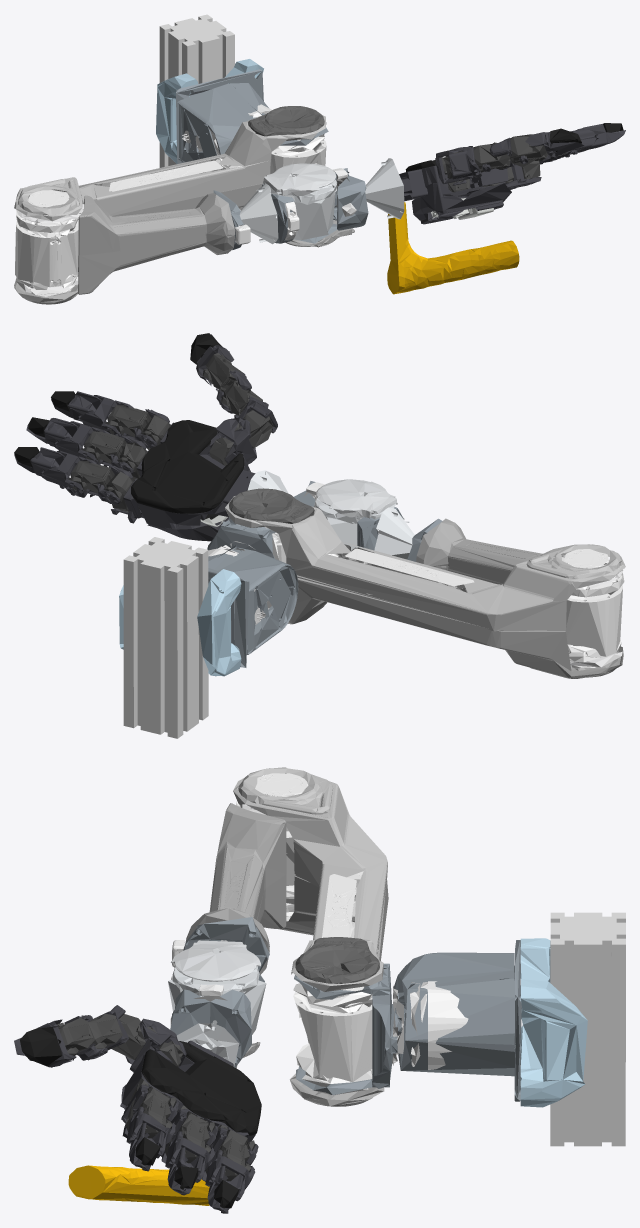
Rendered from robot.glb.
3 views of the same model, one above another, from view 1: azimuth 30°, elevation 25°; view 2: azimuth 150°, elevation 25°; view 3: azimuth 270°, elevation 25° (orthographic). The views are drawn at different scales.
Visible parts, largest first — view 1: link3__m1, link2__m3, base_link__m1, link2__m0, link6__m0, base_link__m2, palm_base__m1, base_link__m3, link4__m0, link2__m4, link4__m2, link2__m1 (+16 smaller); view 2: link2__m3, base_link__m2, link2__m1, palm_base__m2, base_link__m1, link2__m0, link3__m1, base_link__m3, palm_base__m1, link4__m2, link2__m4, link1__m1 (+18 smaller); view 3: base_link__m2, base_link__m1, link2__m3, base_link__m3, link3__m1, link1__m0, palm_base__m2, link6__m0, link1__m1, link2__m0, link2__m4, link5__m1 (+18 smaller).
Part boxes in pixels (left/top/right/bottom): link3__m1: left=78, top=193, right=234, bottom=294; link2__m3: left=14, top=114, right=326, bottom=221; base_link__m1: left=176, top=69, right=268, bottom=163; link2__m0: left=15, top=160, right=223, bottom=289; link6__m0: left=387, top=202, right=519, bottom=294; base_link__m2: left=159, top=14, right=234, bottom=167; palm_base__m1: left=399, top=165, right=511, bottom=224; base_link__m3: left=156, top=59, right=263, bottom=163; link4__m0: left=263, top=179, right=337, bottom=240; link2__m4: left=248, top=106, right=324, bottom=136; link4__m2: left=263, top=163, right=336, bottom=196; link2__m1: left=14, top=183, right=263, bottom=304; link2__m3: left=225, top=496, right=625, bottom=631; base_link__m2: left=123, top=537, right=208, bottom=738; link2__m1: left=288, top=575, right=623, bottom=678; palm_base__m2: left=131, top=420, right=244, bottom=519; base_link__m1: left=208, top=545, right=298, bottom=667; link2__m0: left=345, top=548, right=622, bottom=662; link3__m1: left=416, top=518, right=581, bottom=584; base_link__m3: left=119, top=569, right=241, bottom=676; palm_base__m1: left=137, top=439, right=255, bottom=541; link4__m2: left=316, top=479, right=396, bottom=518; link2__m4: left=229, top=488, right=314, bottom=523; link1__m1: left=207, top=517, right=275, bottom=558; base_link__m2: left=550, top=912, right=625, bottom=1146; base_link__m1: left=393, top=940, right=521, bottom=1101; link2__m3: left=233, top=767, right=387, bottom=991; base_link__m3: left=520, top=938, right=587, bottom=1107; link3__m1: left=185, top=803, right=286, bottom=974; link1__m0: left=293, top=983, right=372, bottom=1086; palm_base__m2: left=141, top=1041, right=261, bottom=1135; link6__m0: left=68, top=1165, right=209, bottom=1205; link1__m1: left=294, top=963, right=401, bottom=1094; link2__m0: left=255, top=773, right=356, bottom=937; link2__m4: left=295, top=937, right=379, bottom=983; link5__m1: left=170, top=989, right=251, bottom=1067.
Bounding box in the file's own units: 0.5985 × 0.1842 × 0.4122.
